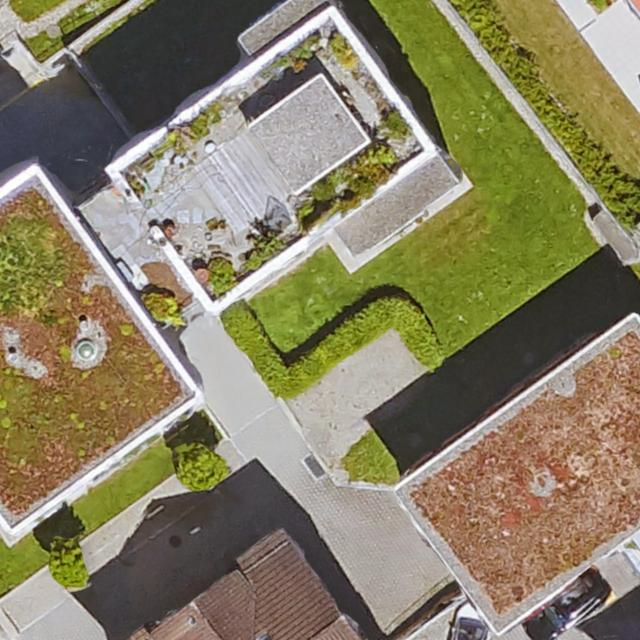tree: (176, 446, 227, 491), (50, 542, 93, 588)
